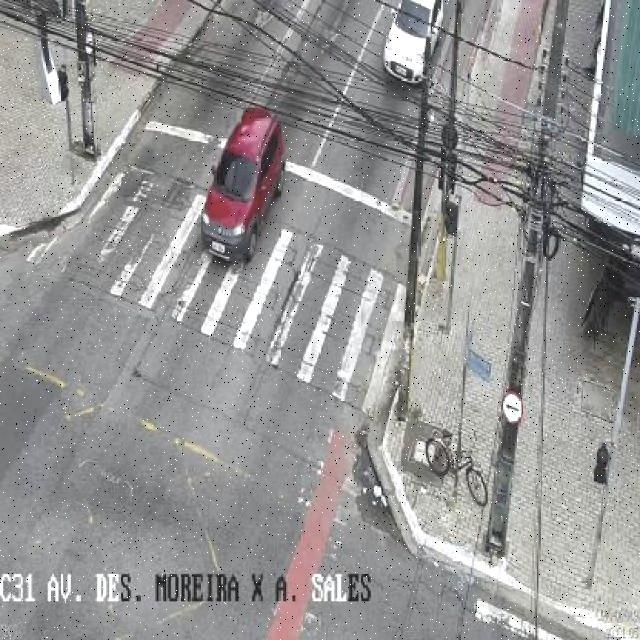Car: (194, 101, 292, 278), (382, 0, 443, 98)
Cycle: (419, 425, 498, 516)
